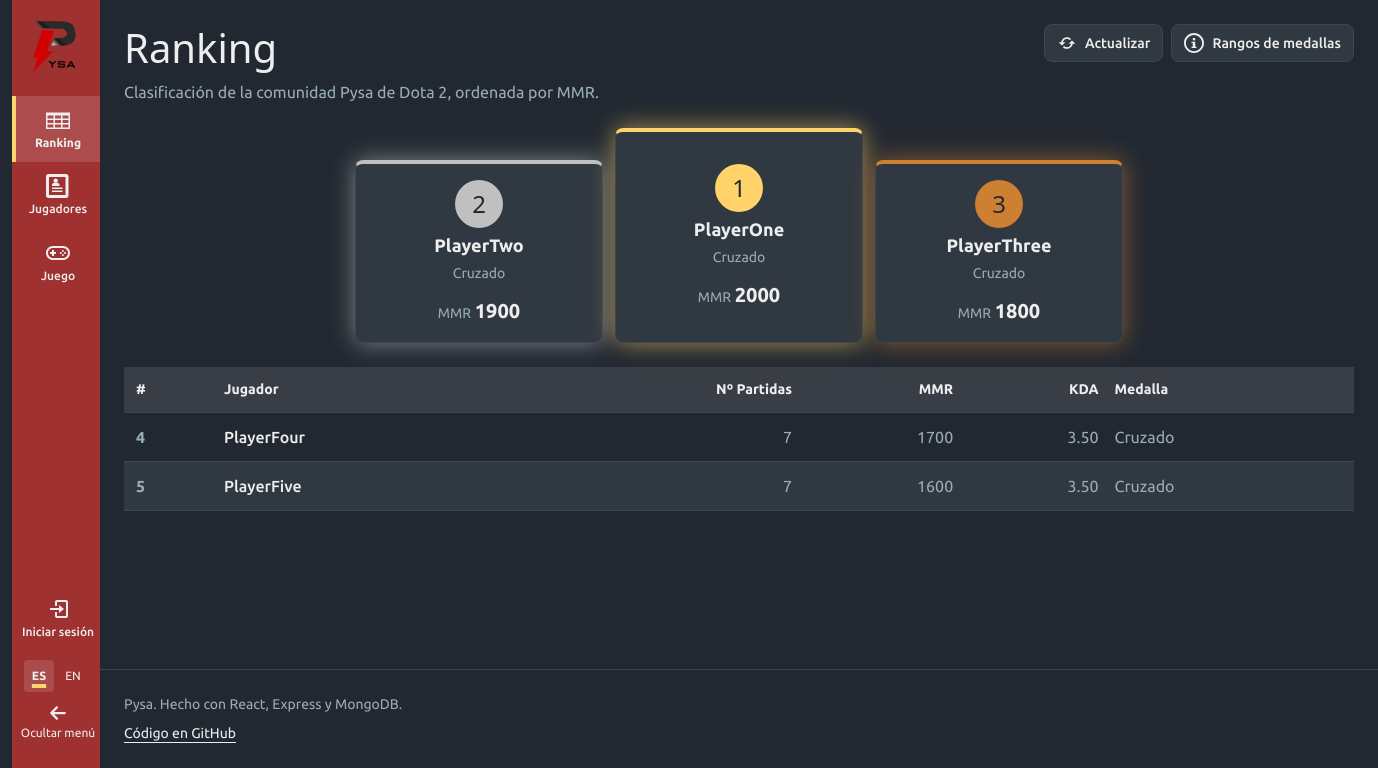
the medal ranges › a real button toggles a disclosure; Escape closes it and returns focus
Expected: the list named "Podio" is shown, [355,128,1123,343]
Expected: the text "PlayerOne" is shown, [694,216,784,243]
Click the button "Rangos de medallas" at (1263, 43), box [1171,24,1354,62]
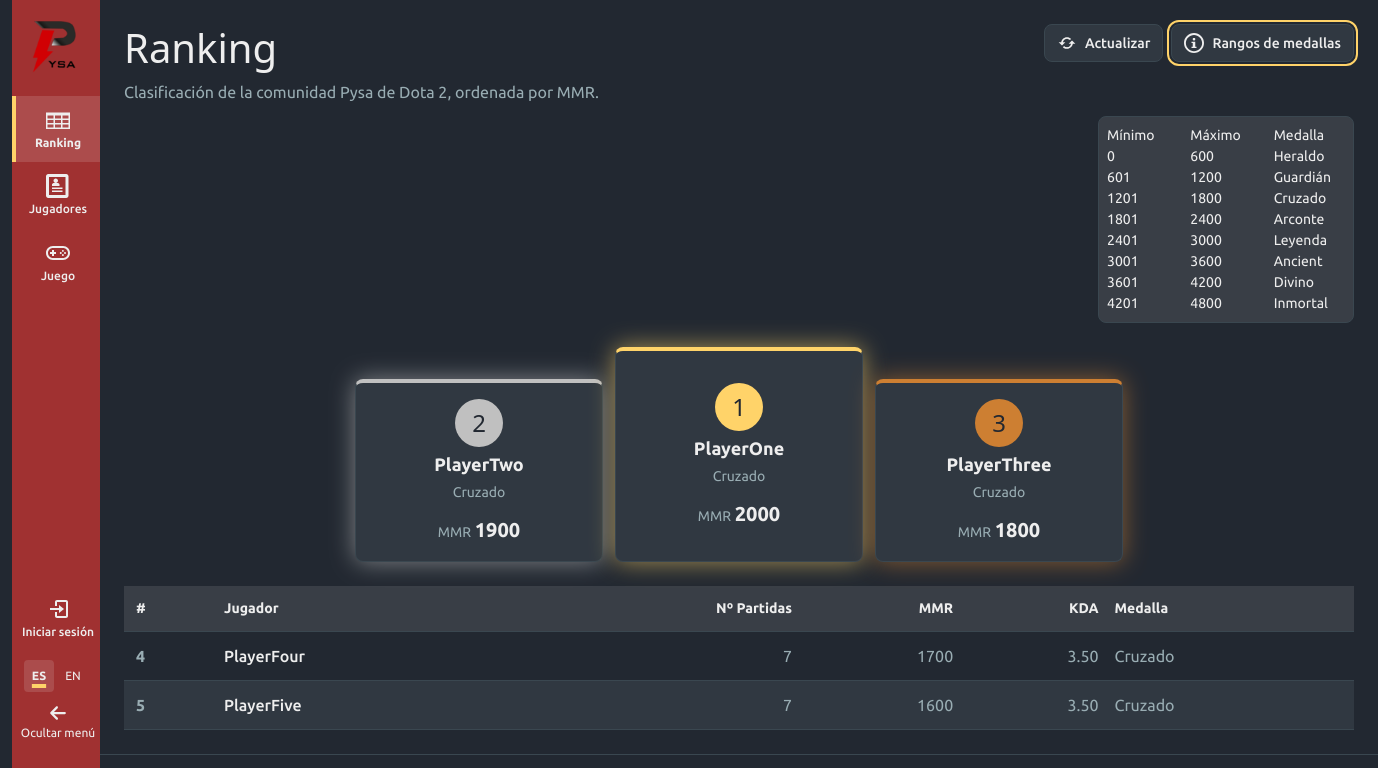
Expected: the element with id "medails" is shown, [1098,116,1354,323]
Expected: the text "Inmortal" is shown, [1274,295,1328,311]
Press Escape
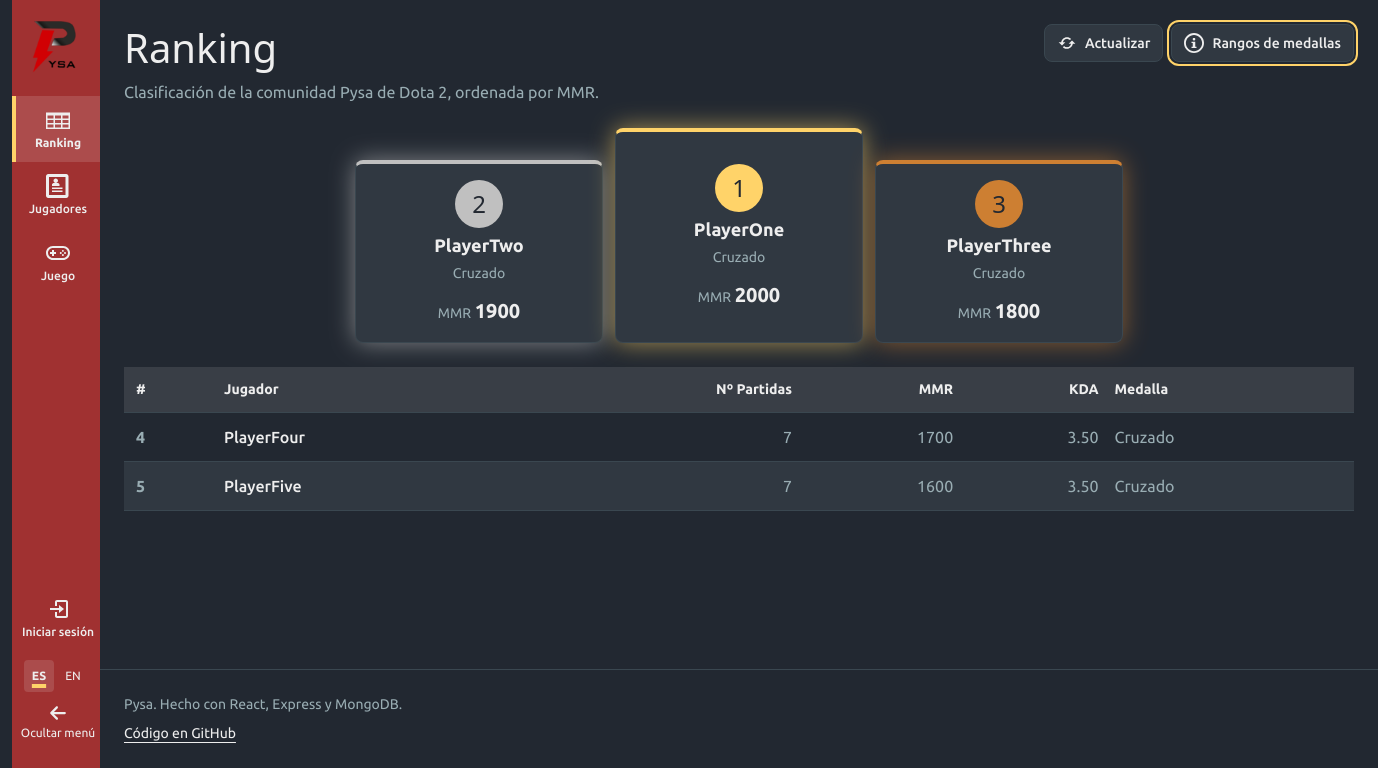
Expected: the element with id "medails" is gone
